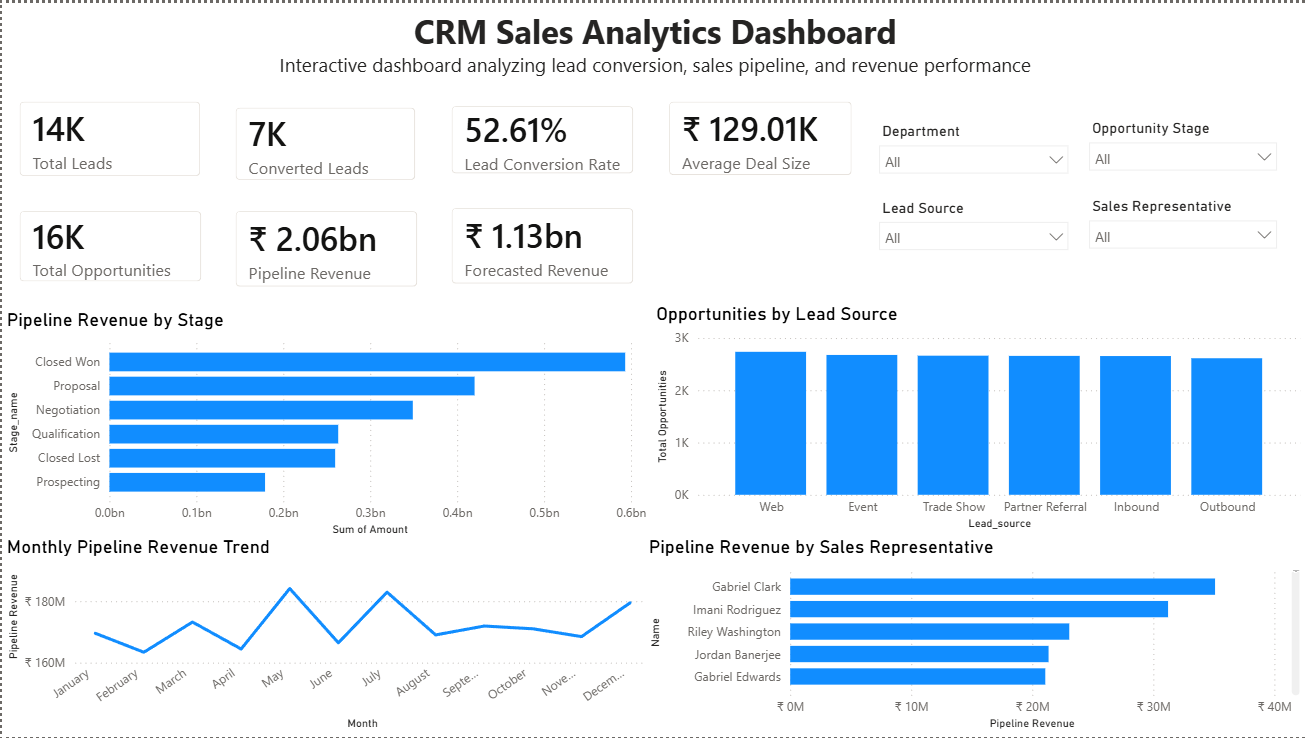

What the dashboard file says about the page in this screenshot:
{"tool":"powerbi","page":{"name":"Executive Dashboard","canvas":[1280,720],"ordinal":0},"visuals":[{"type":"cardVisual","fields":{"Data":["DAX Measures.Total Leads"]},"box":[0,79.3,211.7,107.5],"z":0},{"type":"barChart","title":"Pipeline Revenue by Stage","fields":{"Category":["opportunity.stage_name"],"Y":["Sum(opportunity.amount)"]},"box":[0,299.6,636.4,226.7],"z":1000},{"type":"textbox","box":[0,0,1280.8,79.3],"z":2000},{"type":"group","id":"g1","title":"Group 1","box":[850.1,112.2,205.6,149.1],"z":2000,"group":"g2"},{"type":"group","id":"g2","title":"Group 3","box":[850.1,109,409.7,155.4],"z":3000},{"type":"group","id":"g3","title":"Group 2","box":[1055.7,109,204,153.8],"z":3000,"group":"g2"},{"type":"cardVisual","fields":{"Data":["DAX Measures.Converted Leads"]},"box":[212.1,85.3,210.5,105.2],"z":4000},{"type":"cardVisual","fields":{"Data":["DAX Measures.Total Opportunities"]},"box":[0,186.3,212.1,103.6],"z":5000},{"type":"slicer","fields":{"Values":["user.department"]},"box":[850.1,112.2,205.6,75.5],"z":6000,"group":"g1"},{"type":"clusteredColumnChart","title":"Opportunities by Lead Source","fields":{"Y":["DAX Measures.Total Opportunities"],"Category":["opportunity.lead_source"]},"box":[636.4,294.7,641.2,226.7],"z":6000},{"type":"cardVisual","fields":{"Data":["DAX Measures.Lead Conversion Rate"]},"box":[424.2,83.6,212.1,100.4],"z":7000},{"type":"slicer","fields":{"Values":["opportunity.lead_source"]},"box":[850.1,187.7,205.6,73.6],"z":7000,"group":"g1"},{"type":"slicer","fields":{"Values":["opportunity.stage_name"]},"box":[1056.2,109,204,77.8],"z":8000,"group":"g3"},{"type":"cardVisual","fields":{"Data":["DAX Measures.Pipeline Revenue"]},"box":[212.1,186.3,212.1,108.5],"z":8000},{"type":"cardVisual","fields":{"Data":["DAX Measures.Forecasted Revenue"]},"box":[424.2,184.1,212.1,108.5],"z":9000},{"type":"slicer","fields":{"Values":["user.name"]},"box":[1055.7,186,204,77.4],"z":9000,"group":"g3"},{"type":"lineChart","title":"Monthly Pipeline Revenue Trend","fields":{"Category":["opportunity.close_date.Variation.Date Hierarchy.Month"],"Y":["DAX Measures.Pipeline Revenue"]},"box":[0,521.4,639.6,194.3],"z":10000},{"type":"barChart","title":"Pipeline Revenue by Sales Representative","fields":{"Category":["user.name"],"Y":["DAX Measures.Pipeline Revenue"]},"box":[629.9,521.4,647.7,194.3],"z":11000},{"type":"cardVisual","fields":{"Data":["DAX Measures.Average Deal Size"]},"box":[636.7,79.3,213.3,106],"z":12000}]}

Visuals, with their boxes in screenshot pixels (x1, y1, x2, y2), scaled from the page's 1280x720 canvas onto the 1305x738 screenshot:
cardVisual - DAX Measures.Total Leads: (0,81,216,191)
"Pipeline Revenue by Stage" barChart: (0,307,649,539)
textbox: (0,0,1304,81)
"Group 1" group: (867,115,1076,268)
"Group 3" group: (867,112,1284,271)
"Group 2" group: (1076,112,1284,269)
cardVisual - DAX Measures.Converted Leads: (216,87,431,195)
cardVisual - DAX Measures.Total Opportunities: (0,191,216,297)
slicer - user.department: (867,115,1076,192)
"Opportunities by Lead Source" clusteredColumnChart: (649,302,1303,534)
cardVisual - DAX Measures.Lead Conversion Rate: (432,86,649,189)
slicer - opportunity.lead_source: (867,192,1076,268)
slicer - opportunity.stage_name: (1077,112,1285,191)
cardVisual - DAX Measures.Pipeline Revenue: (216,191,432,302)
cardVisual - DAX Measures.Forecasted Revenue: (432,189,649,300)
slicer - user.name: (1076,191,1284,270)
"Monthly Pipeline Revenue Trend" lineChart: (0,534,652,734)
"Pipeline Revenue by Sales Representative" barChart: (642,534,1303,734)
cardVisual - DAX Measures.Average Deal Size: (649,81,867,190)
